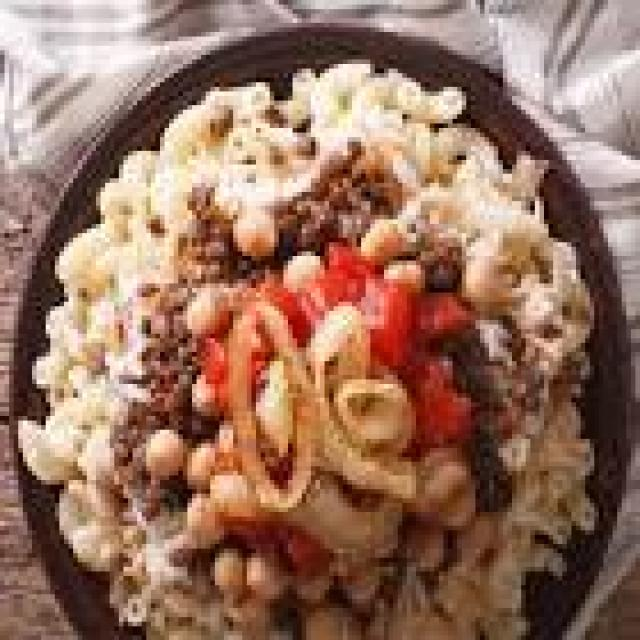koshary: (19, 67, 602, 640)
